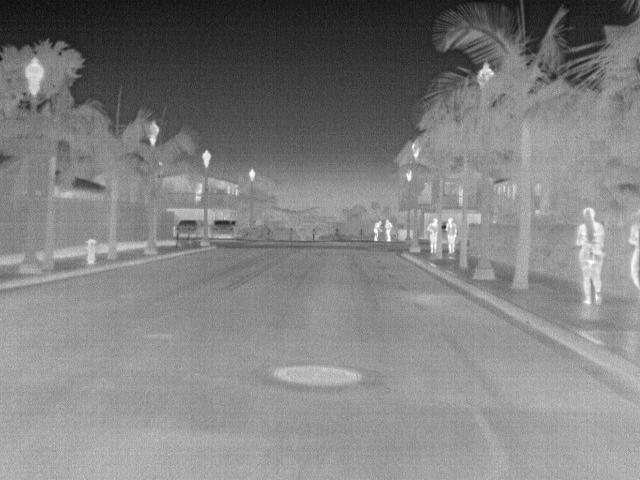car: (176, 220, 203, 238), (212, 220, 235, 238)
person: (575, 206, 607, 308), (626, 212, 639, 290), (444, 216, 458, 251), (427, 216, 439, 252), (372, 219, 384, 242), (382, 219, 394, 241)
